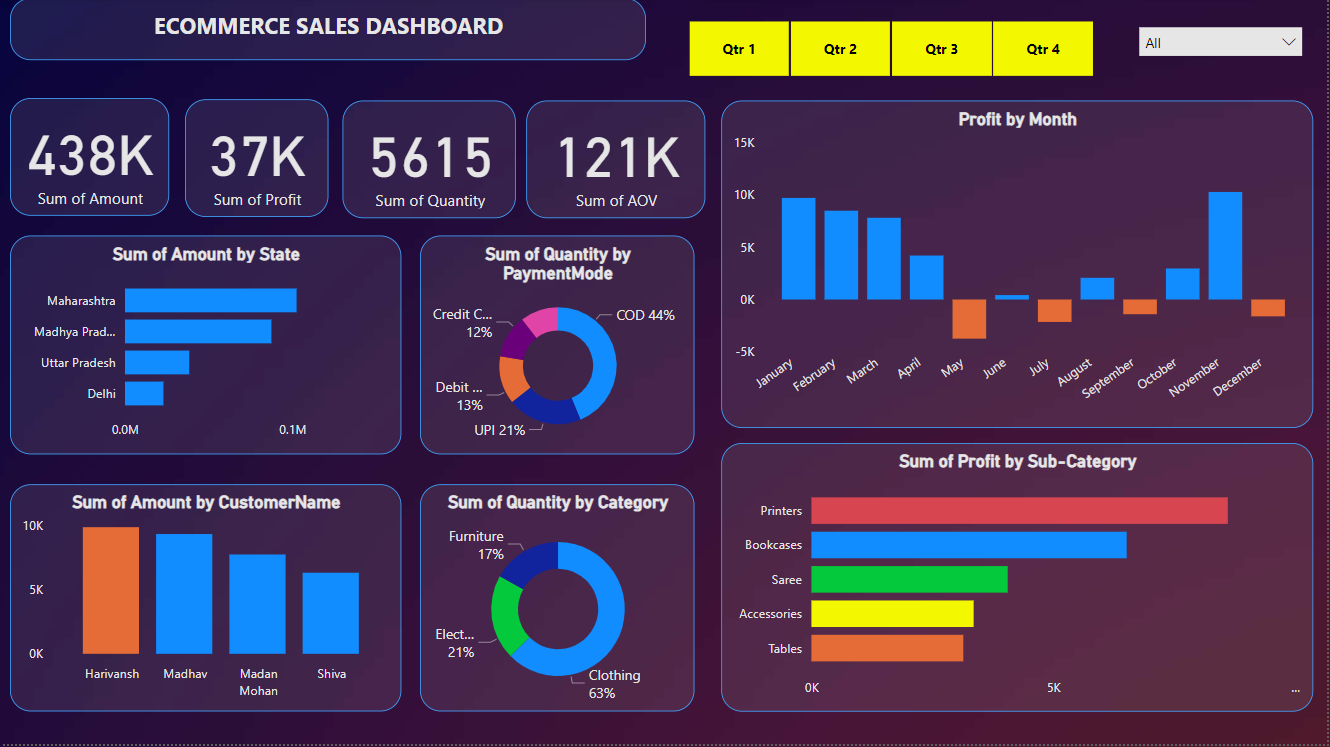

This screenshot's page, from the dashboard's own definition file:
{"tool":"powerbi","page":{"name":"Page 1","canvas":[1280,720],"ordinal":0},"visuals":[{"type":"textbox","box":[9.6,0,613.4,60.4],"z":0},{"type":"columnChart","title":"Profit by Month","fields":{"Category":["Orders.Order Date.Variation.Date Hierarchy.Month"],"Y":["Sum(Details.Profit)"]},"box":[695.7,98.8,570.8,315.6],"z":1000},{"type":"barChart","fields":{"Category":["Details.Sub-Category"],"Y":["Sum(Details.Profit)"]},"box":[695.7,429.5,570.8,259.3],"z":2000},{"type":"donutChart","fields":{"Category":["Details.Category"],"Y":["Sum(Details.Quantity)"]},"box":[404.8,469.3,264.8,219.6],"z":3000},{"type":"donutChart","fields":{"Y":["Sum(Details.Quantity)"],"Category":["Details.PaymentMode"]},"box":[404.8,229.2,264.8,211.3],"z":4000},{"type":"card","fields":{"Values":["Sum(Details.Amount)"]},"box":[9.6,96.1,153.7,113.9],"z":5000},{"type":"card","fields":{"Values":["Sum(Details.Profit)"]},"box":[178.4,97.4,138.6,113.9],"z":6000},{"type":"card","fields":{"Values":["Sum(Details.Quantity)"]},"box":[330.7,98.8,167.4,113.9],"z":7000},{"type":"card","fields":{"Values":["Sum(Details.AOV)"]},"box":[507.7,98.8,172.9,113.9],"z":8000},{"type":"barChart","fields":{"Category":["Orders.State"],"Y":["Sum(Details.Amount)"]},"box":[9.6,229.2,377.4,211.3],"z":9000},{"type":"columnChart","fields":{"Category":["Orders.CustomerName"],"Y":["Sum(Details.Amount)"]},"box":[9.6,469.3,377.4,219.6],"z":10000},{"type":"slicer","fields":{"Values":["Orders.Order Date.Variation.Date Hierarchy.Quarter"]},"box":[639.5,15.1,439.1,65.9],"z":11000},{"type":"slicer","fields":{"Values":["Orders.State"]},"box":[1089.5,17.8,177,63.1],"z":12000}]}

Visuals, with their boxes in screenshot pixels (x1, y1, x2, y2), scaled from the page's 1280x720 canvas onto the 1330x747 screenshot:
textbox: box=[10, 0, 647, 63]
"Profit by Month" columnChart: box=[723, 103, 1316, 430]
barChart - Details.Sub-Category x Sum(Details.Profit): box=[723, 446, 1316, 715]
donutChart - Details.Category x Sum(Details.Quantity): box=[421, 487, 696, 715]
donutChart - Sum(Details.Quantity) x Details.PaymentMode: box=[421, 238, 696, 457]
card - Sum(Details.Amount): box=[10, 100, 170, 218]
card - Sum(Details.Profit): box=[185, 101, 329, 219]
card - Sum(Details.Quantity): box=[344, 103, 518, 221]
card - Sum(Details.AOV): box=[528, 103, 707, 221]
barChart - Orders.State x Sum(Details.Amount): box=[10, 238, 402, 457]
columnChart - Orders.CustomerName x Sum(Details.Amount): box=[10, 487, 402, 715]
slicer - Orders.Order Date.Variation.Date Hierarchy.Quarter: box=[664, 16, 1121, 84]
slicer - Orders.State: box=[1132, 18, 1316, 84]
